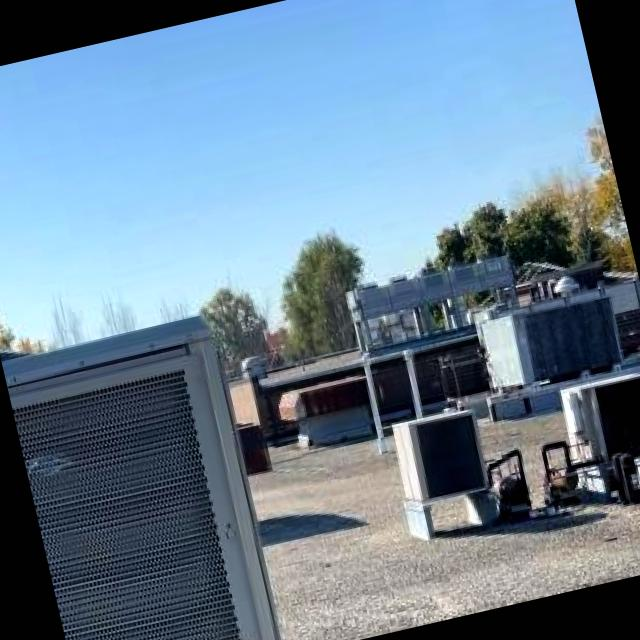SPLIT-SYSTEM: (0, 298, 291, 640), (474, 284, 636, 402), (378, 398, 502, 518), (552, 361, 640, 481)
